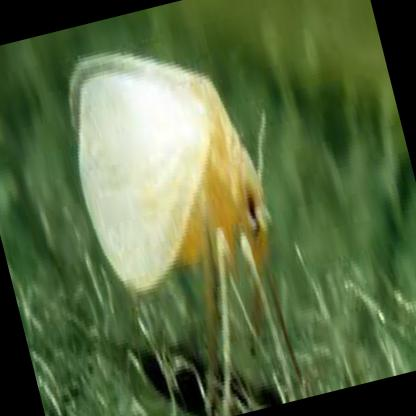whitefly: (67, 57, 267, 290)
